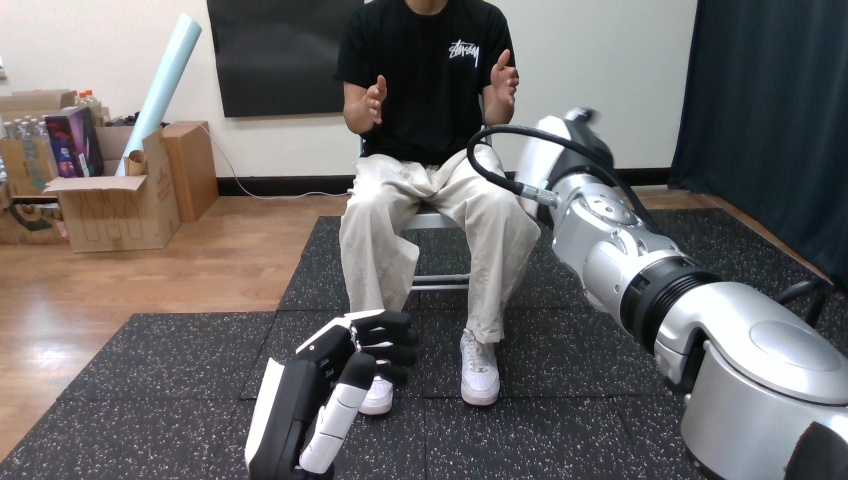left robot hand: (467, 110, 847, 478), (245, 309, 417, 479)
